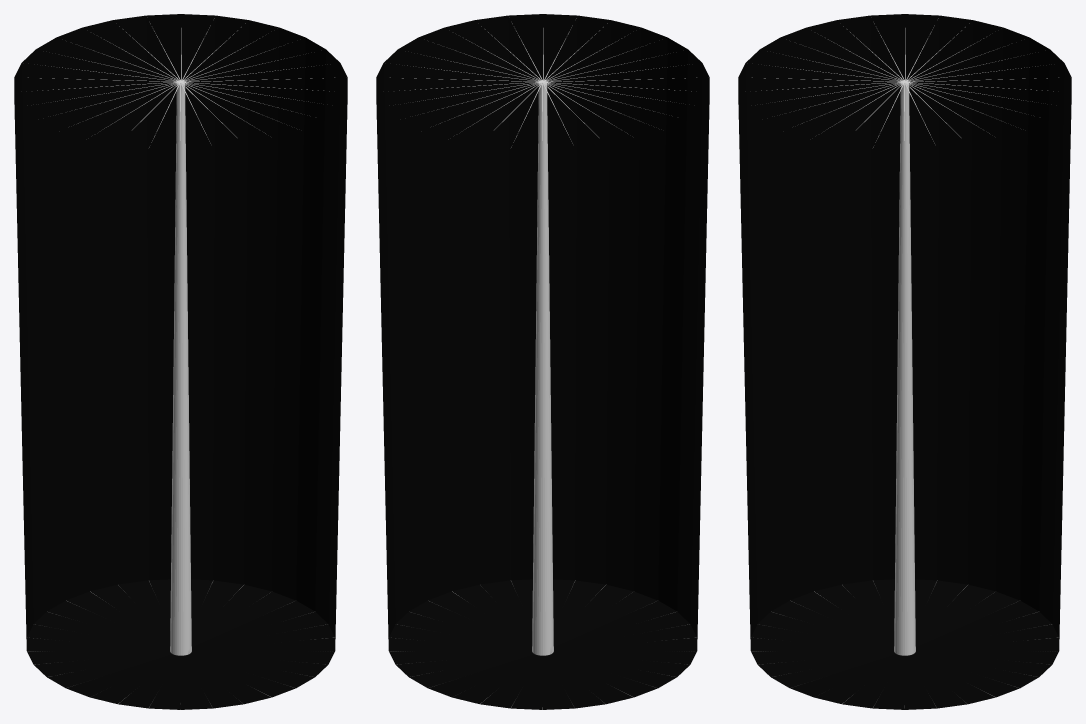
3 renders of one model, left to right at view 1: azimuth 30°, elevation 25°; view 2: azimuth 150°, elevation 25°; view 3: azimuth 270°, elevation 25°, orthographic.
Parts seen in each view (by area): view 1: algeomath (1); view 2: algeomath (1); view 3: algeomath (1).
Part boxes in pixels (bbox=[...]): algeomath (1): bbox=[14, 14, 347, 709]; algeomath (1): bbox=[376, 14, 709, 709]; algeomath (1): bbox=[738, 14, 1071, 709].
Size of the model in its own units: 0.1599 by 0.3 by 0.1591.
Materials: 1 (1 with a texture image).
